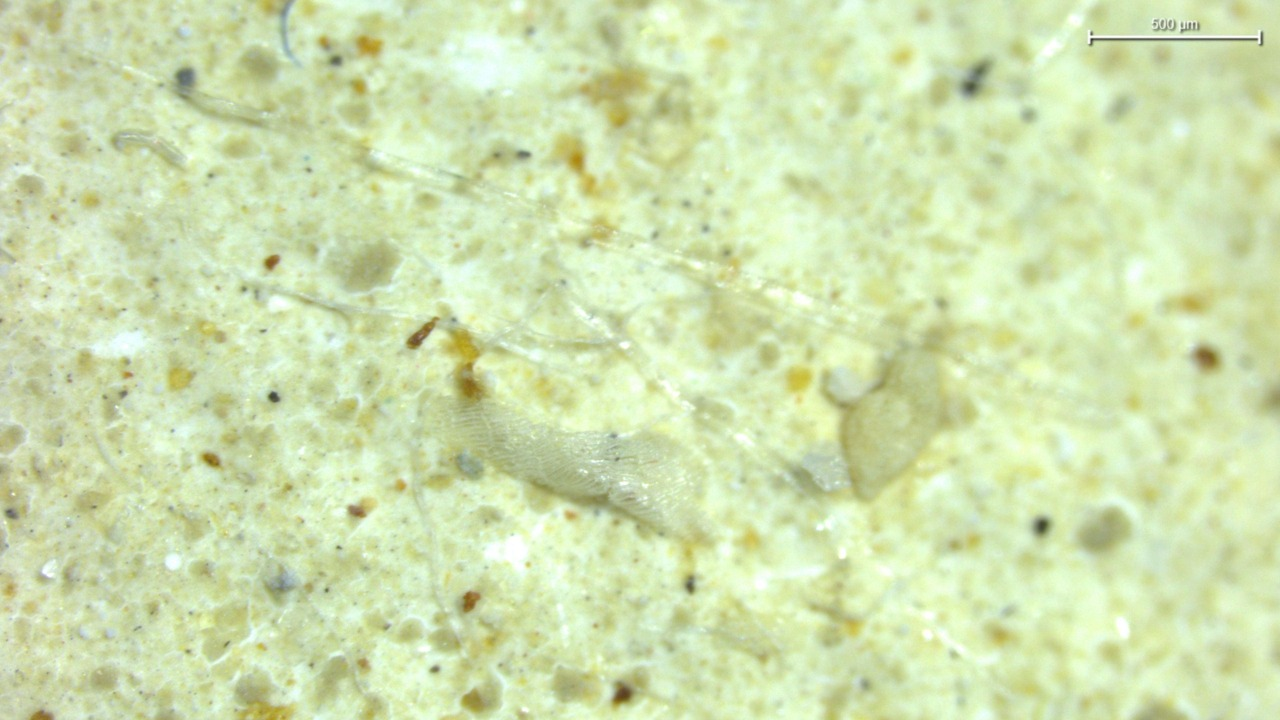microplastic_fragment: (444, 399, 708, 536)
